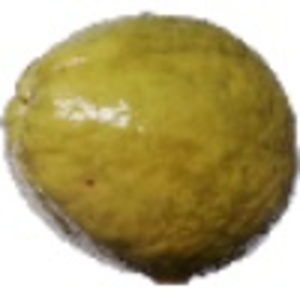goiaba: (1, 9, 295, 283)
